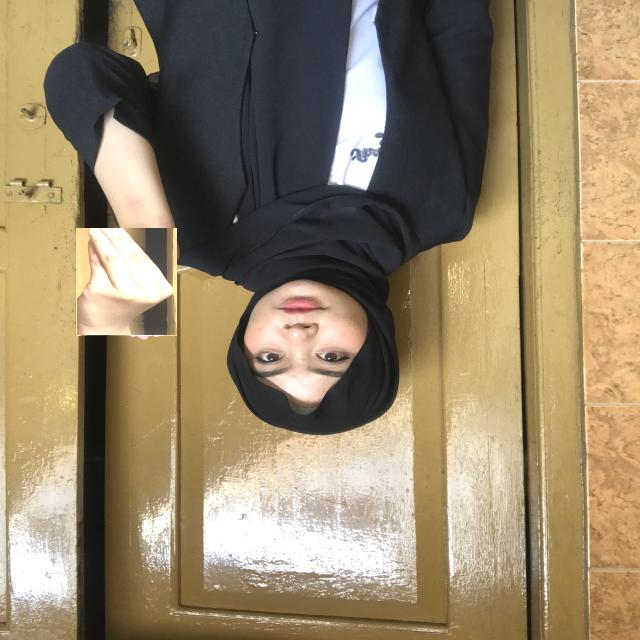kapan: (75, 228, 176, 336)
